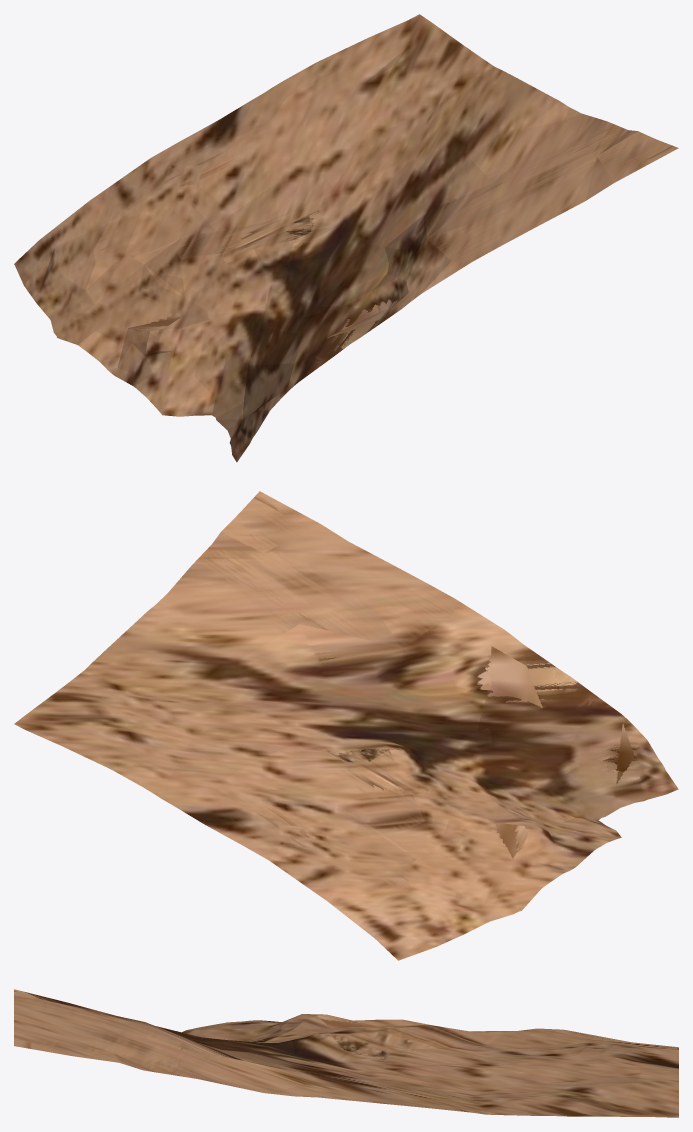
The picture shows the model from 3 angles, top to bottom: view 1: azimuth 30°, elevation 25°; view 2: azimuth 150°, elevation 25°; view 3: azimuth 270°, elevation 25°; orthographic projection. The views are drawn at different scales.
Bounding box in the file's own units: 1.04 × 0.4594 × 1.04.
Materials: 3 (3 with a texture image).
